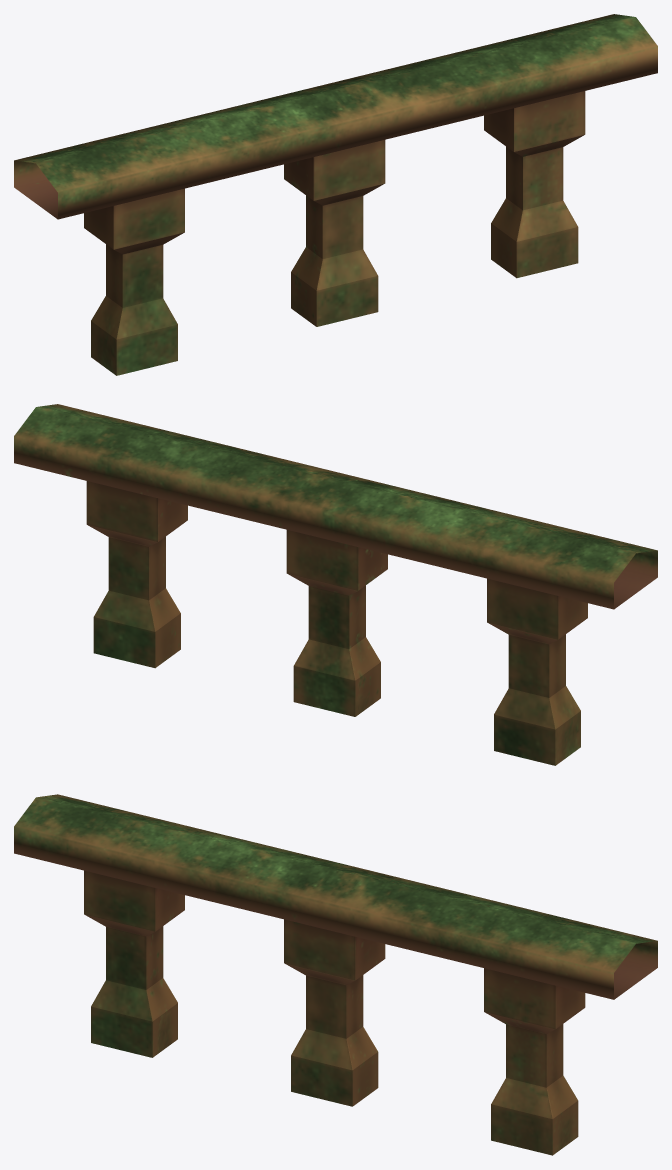
File: Valla.fbx
The picture shows the model from 3 angles, top to bottom: view 1: azimuth 30°, elevation 25°; view 2: azimuth 150°, elevation 25°; view 3: azimuth 330°, elevation 25°; orthographic projection.
Visible parts, largest first — view 1: Cube.114; view 2: Cube.114; view 3: Cube.114.
Boxes of the visible parts, x1=… form: Cube.114: x1=14, y1=14, x2=657, y2=375; Cube.114: x1=14, y1=404, x2=657, y2=765; Cube.114: x1=14, y1=794, x2=657, y2=1155.
Bounding box in the file's own units: 4 × 1.4 × 0.5067.
